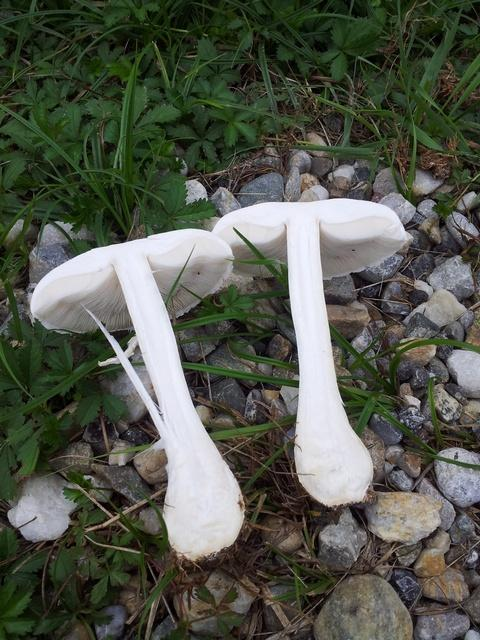Non-edible Mushroom: (29, 226, 246, 563), (210, 196, 412, 509)
